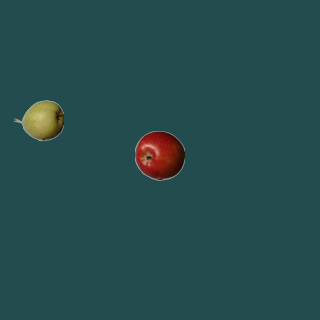Apple Braeburn: (134, 130, 184, 180)
Pear: (13, 95, 63, 145)
